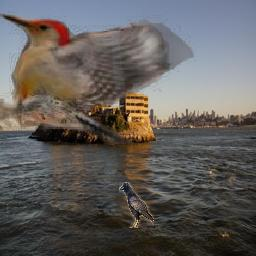Crow: (120, 182, 155, 228)
Woodpecker: (0, 12, 196, 145)
